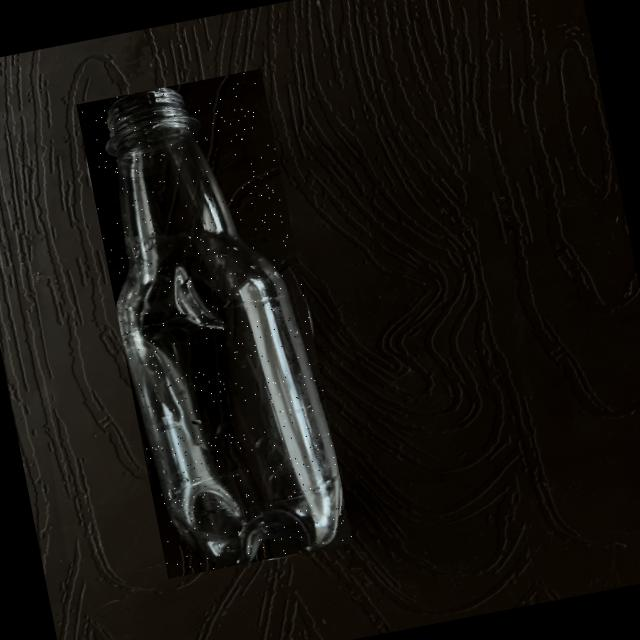PET_With_Liquid: (111, 89, 341, 564)
